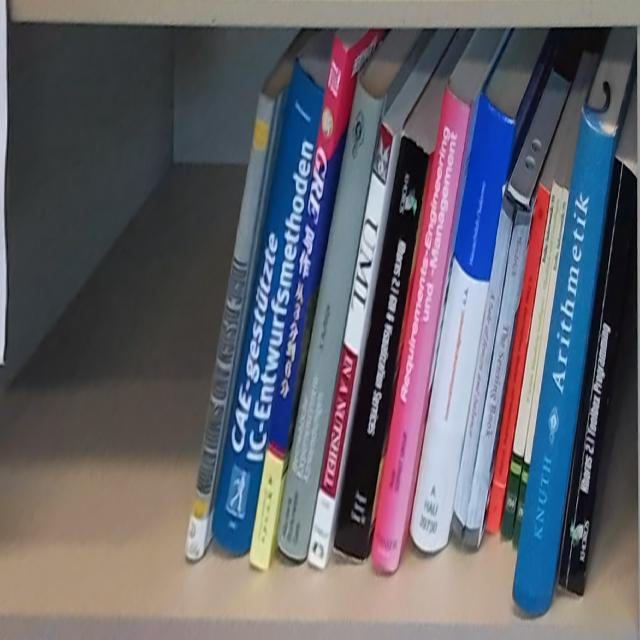Book Spine: (212, 61, 325, 555), (248, 35, 348, 570), (276, 74, 385, 561), (512, 110, 614, 615), (409, 91, 515, 552), (371, 85, 471, 572), (184, 93, 277, 561), (332, 134, 430, 563), (308, 123, 394, 568), (557, 158, 638, 599), (451, 190, 533, 549), (486, 183, 550, 532), (501, 182, 563, 537), (512, 186, 570, 549)
